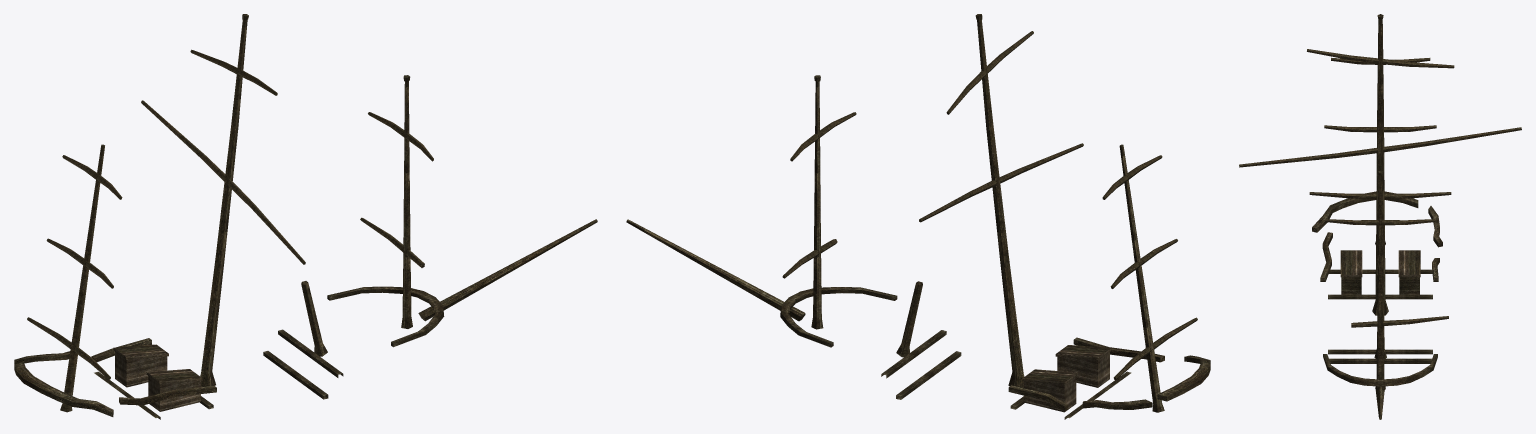
The model's file is ships_broken00.fbx.
The picture shows the model from 3 angles, left to right: view 1: azimuth 30°, elevation 25°; view 2: azimuth 150°, elevation 25°; view 3: azimuth 270°, elevation 25°; orthographic projection. The views are drawn at different scales.
Parts seen in each view (by area): view 1: fort_ship01_02; view 2: fort_ship01_02; view 3: fort_ship01_02.
Boxes of the visible parts, box(x1,y1,x2,y2) form: fort_ship01_02: box(14, 14, 597, 419); fort_ship01_02: box(626, 14, 1210, 419); fort_ship01_02: box(1239, 14, 1521, 419).
Size of the model in its own units: 47.72 by 29.75 by 23.39.
